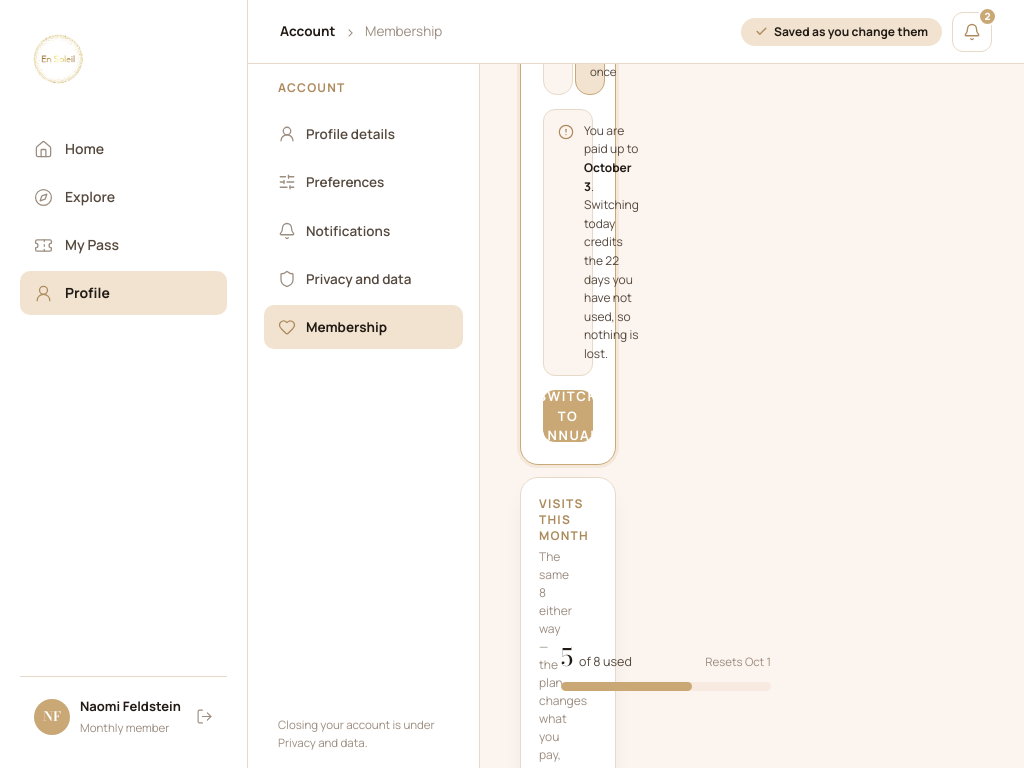
Test: suscriptor mensual (?plan=monthly) › confirmar en el modal lo cierra
This screenshot has width=1024, height=768.
(page scrolled)
Click the button "Switch to annual" at (568, 416), box x1=543 y1=390 x2=593 y2=442
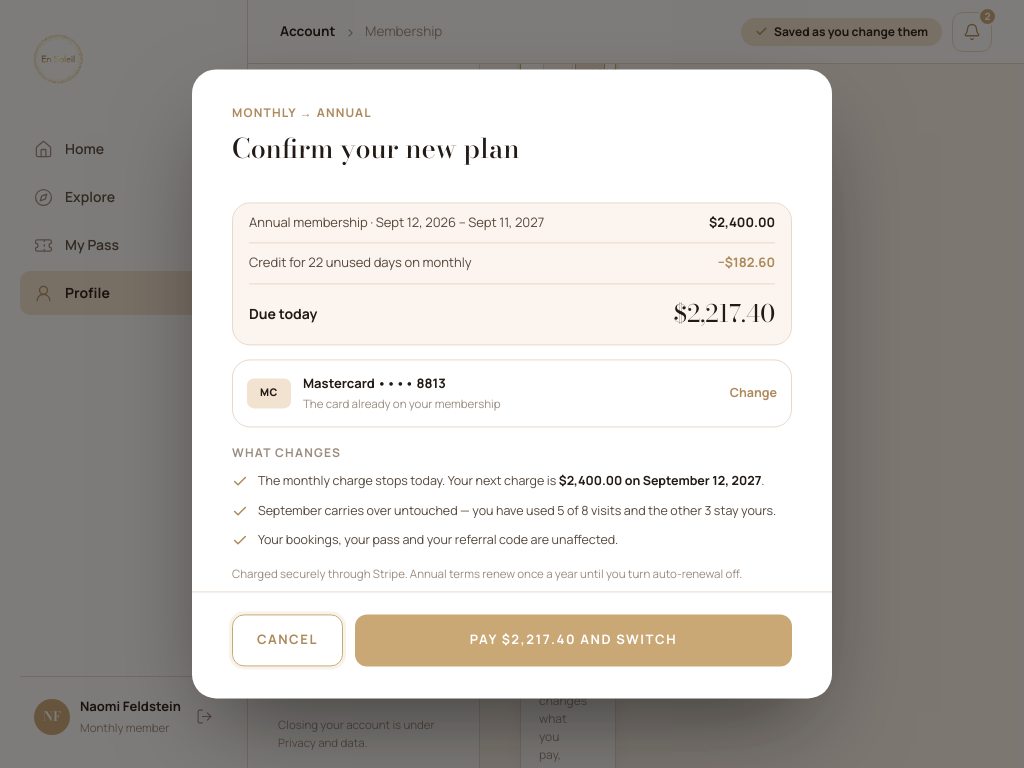
Click the button "Pay $2,217.40 and switch" at (573, 641), box x1=355 y1=615 x2=792 y2=667
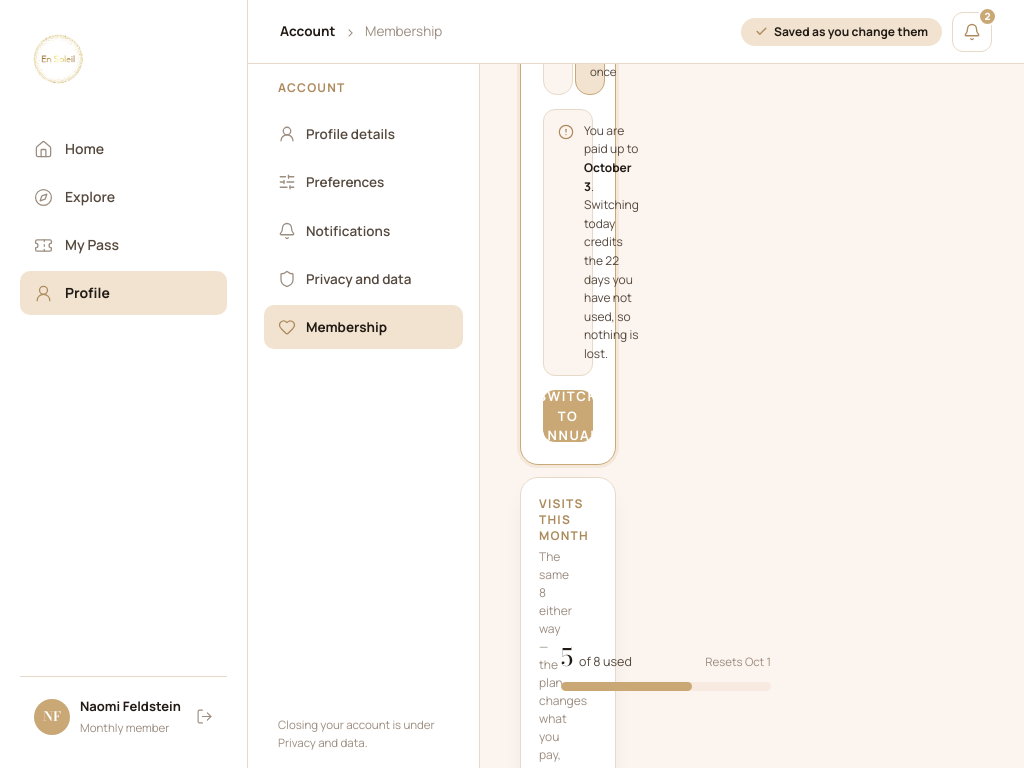
Result: the dialog is gone
